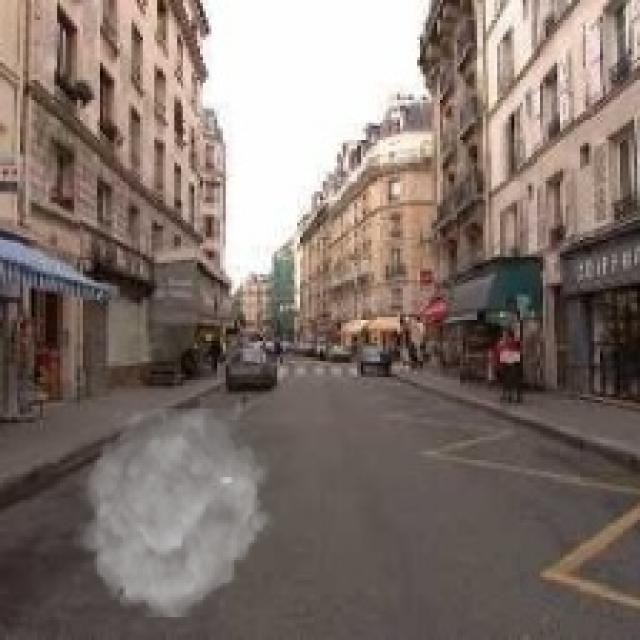smoke: (72, 409, 277, 617)
